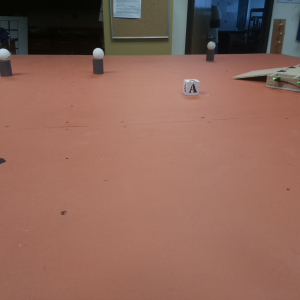obstacle: (88, 48, 108, 76), (1, 50, 13, 80), (202, 42, 218, 61)
side: (268, 74, 300, 92)
slope: (229, 66, 267, 85)
